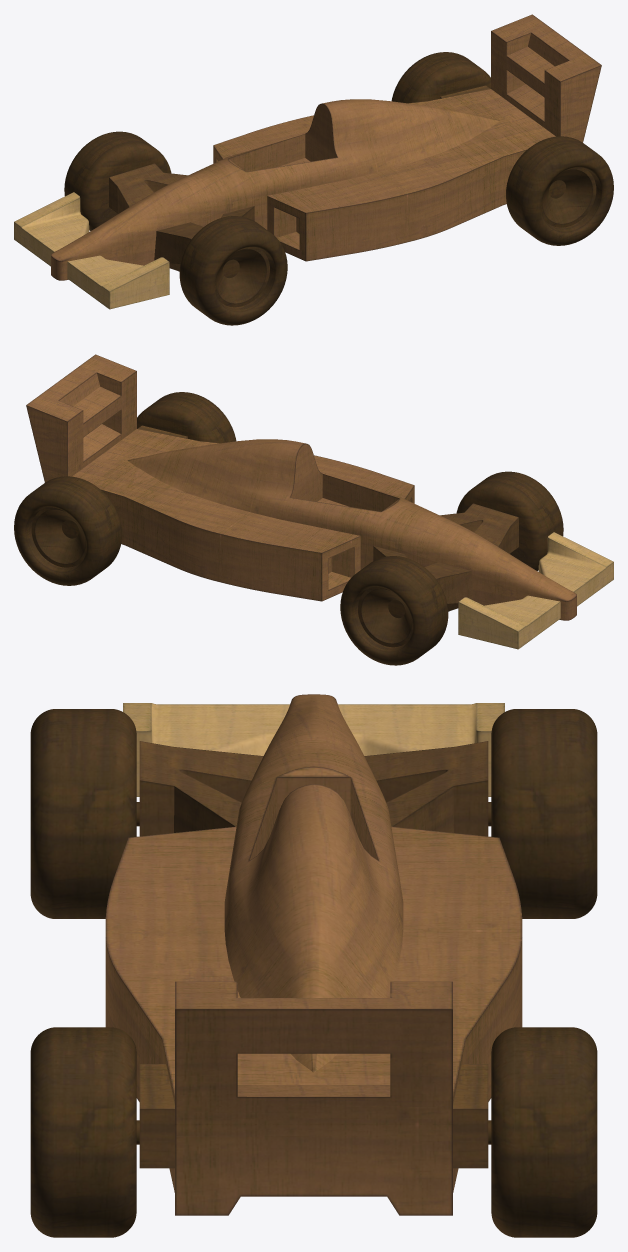
3 renders of one model, top to bottom at view 1: azimuth 30°, elevation 25°; view 2: azimuth 150°, elevation 25°; view 3: azimuth 270°, elevation 25°, orthographic. The views are drawn at different scales.
Parts seen in each view (by area): view 1: free_wooden_car_toy; view 2: free_wooden_car_toy; view 3: free_wooden_car_toy.
Boxes of the visible parts, x1,y1,x2,y2 form: free_wooden_car_toy: [14, 14, 613, 325]; free_wooden_car_toy: [14, 354, 613, 665]; free_wooden_car_toy: [30, 694, 597, 1237].
Size of the model in its own units: 29.49 by 7.74 by 14.09.
Materials: 1 (1 with a texture image).
